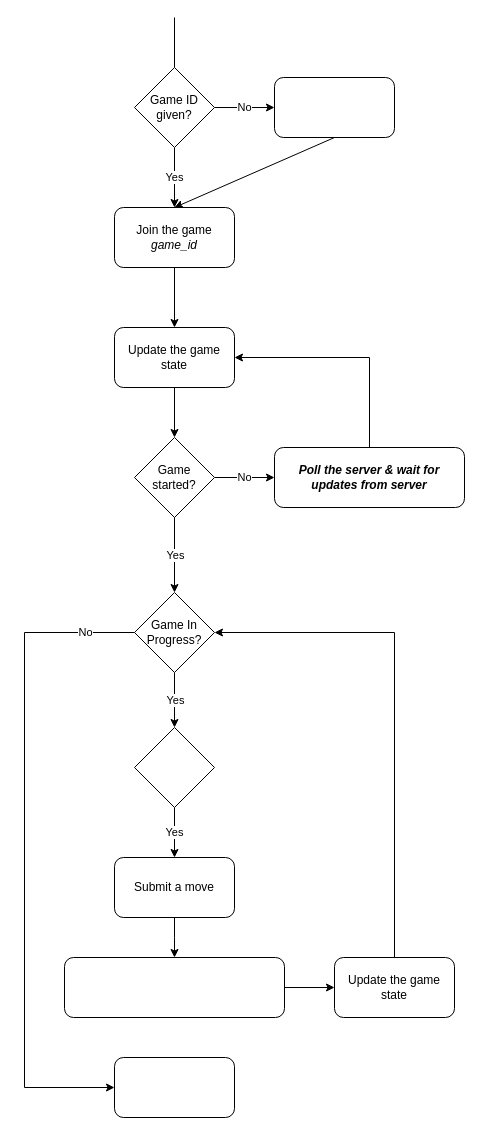
Image size: 482x1135. Some labels were removed from this diagram. The box of each missing label's shape, as (x1, y1, x2, y2) in pixels:
Create a game: (274, 76, 394, 138)
END OF GAME: (114, 1056, 234, 1118)
Player can move?: (134, 726, 214, 808)
Poll the server; wait for updates from server: (64, 956, 284, 1018)
